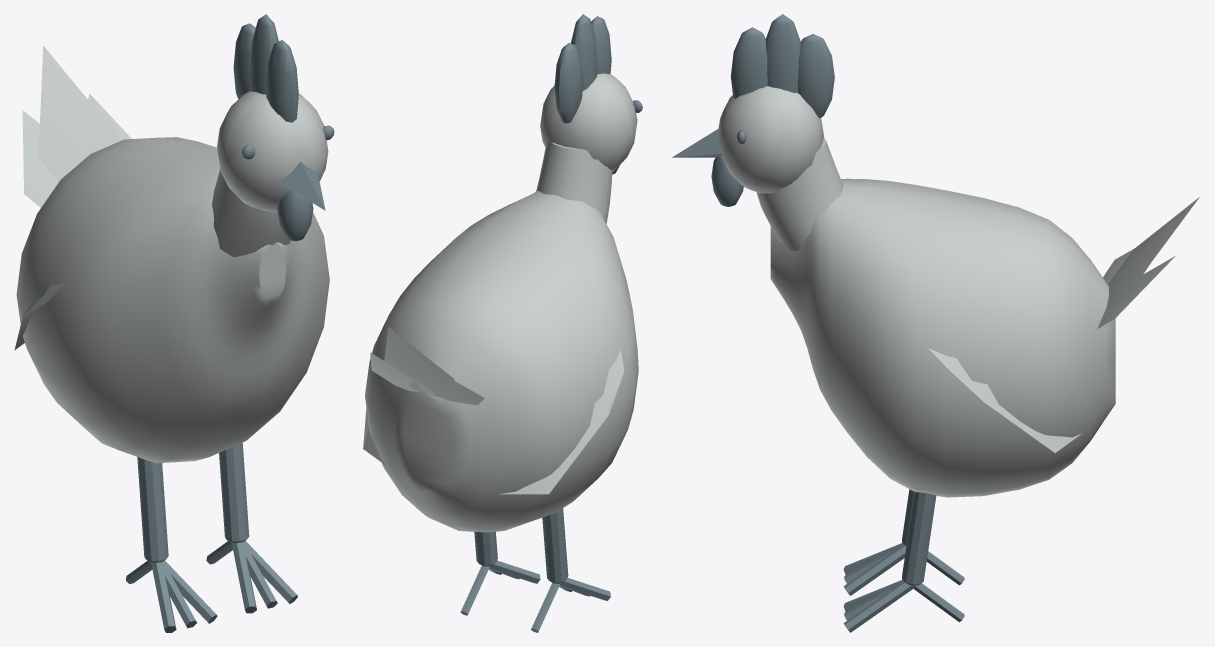
Rendered from chicken.glb.
The picture shows the model from 3 angles, left to right: view 1: azimuth 30°, elevation 25°; view 2: azimuth 150°, elevation 25°; view 3: azimuth 270°, elevation 25°; orthographic projection. The views are drawn at different scales.
Visible parts, largest first — view 1: hen_body, head, tail_feather.001, upright_neck, leg, leg.001, comb_lobe.002, tail_feather, comb_lobe.001, wattle, comb_lobe, beak (+8 smaller); view 2: hen_body, head, upright_neck, folded_wing, comb_lobe, leg, tail_feather.001, tail_feather, comb_lobe.001, comb_lobe.002, tail_feather.002, leg.001 (+4 smaller); view 3: hen_body, head, upright_neck, comb_lobe, comb_lobe.001, leg.001, comb_lobe.002, tail_feather.001, folded_wing.001, wattle, tail_feather.002, toe.005 (+2 smaller).
Part boxes in pixels (left/top/right/bottom): hen_body: left=16, top=137, right=329, bottom=462; head: left=217, top=91, right=328, bottom=211; tail_feather.001: left=38, top=46, right=118, bottom=181; upright_neck: left=212, top=169, right=290, bottom=257; leg: left=137, top=457, right=168, bottom=562; leg.001: left=219, top=442, right=249, bottom=543; comb_lobe.002: left=266, top=40, right=298, bottom=122; tail_feather: left=22, top=110, right=58, bottom=207; comb_lobe.001: left=249, top=14, right=278, bottom=94; wattle: left=277, top=189, right=313, bottom=241; comb_lobe: left=233, top=23, right=255, bottom=98; beak: left=277, top=161, right=325, bottom=210; hen_body: left=365, top=191, right=638, bottom=532; head: left=540, top=73, right=637, bottom=171; upright_neck: left=536, top=141, right=612, bottom=223; folded_wing: left=499, top=350, right=624, bottom=494; comb_lobe: left=554, top=43, right=583, bottom=123; leg: left=542, top=508, right=568, bottom=583; tail_feather.001: left=384, top=327, right=454, bottom=380; tail_feather: left=409, top=367, right=484, bottom=405; comb_lobe.001: left=571, top=14, right=597, bottom=90; comb_lobe.002: left=591, top=16, right=611, bottom=74; tail_feather.002: left=370, top=352, right=434, bottom=396; leg.001: left=474, top=531, right=497, bottom=566; hen_body: left=770, top=178, right=1115, bottom=497; head: left=718, top=86, right=823, bottom=193; upright_neck: left=756, top=137, right=843, bottom=251; comb_lobe: left=797, top=34, right=834, bottom=117; comb_lobe.001: left=765, top=14, right=800, bottom=92; leg.001: left=902, top=492, right=936, bottom=585; comb_lobe.002: left=730, top=27, right=767, bottom=98; tail_feather.001: left=1106, top=197, right=1199, bottom=306; folded_wing.001: left=929, top=348, right=1080, bottom=452; wattle: left=711, top=156, right=743, bottom=206; tail_feather.002: left=1097, top=256, right=1175, bottom=328; toe.005: left=843, top=582, right=914, bottom=632.
Bounding box in the file's own units: 0.244 × 0.5381 × 0.437.
